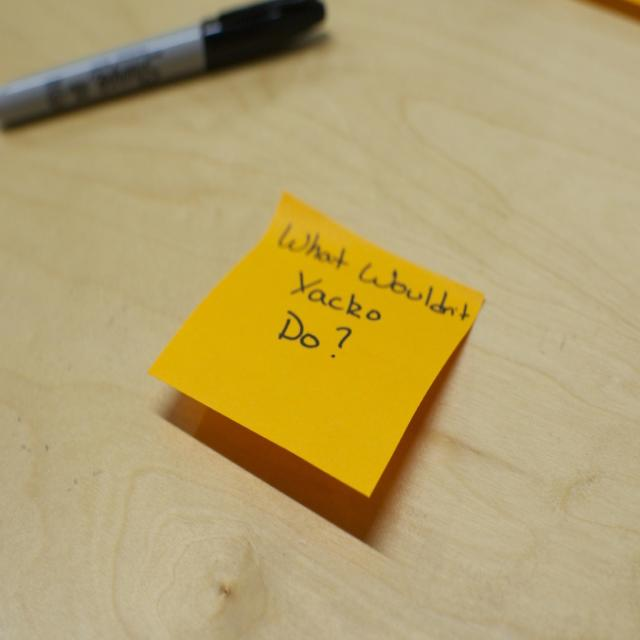pen: (0, 0, 333, 131)
